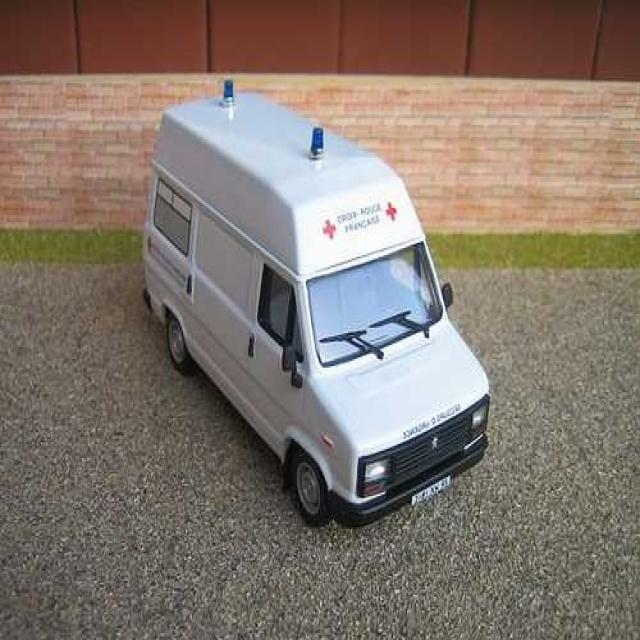ambulance: (305, 124, 325, 162)
